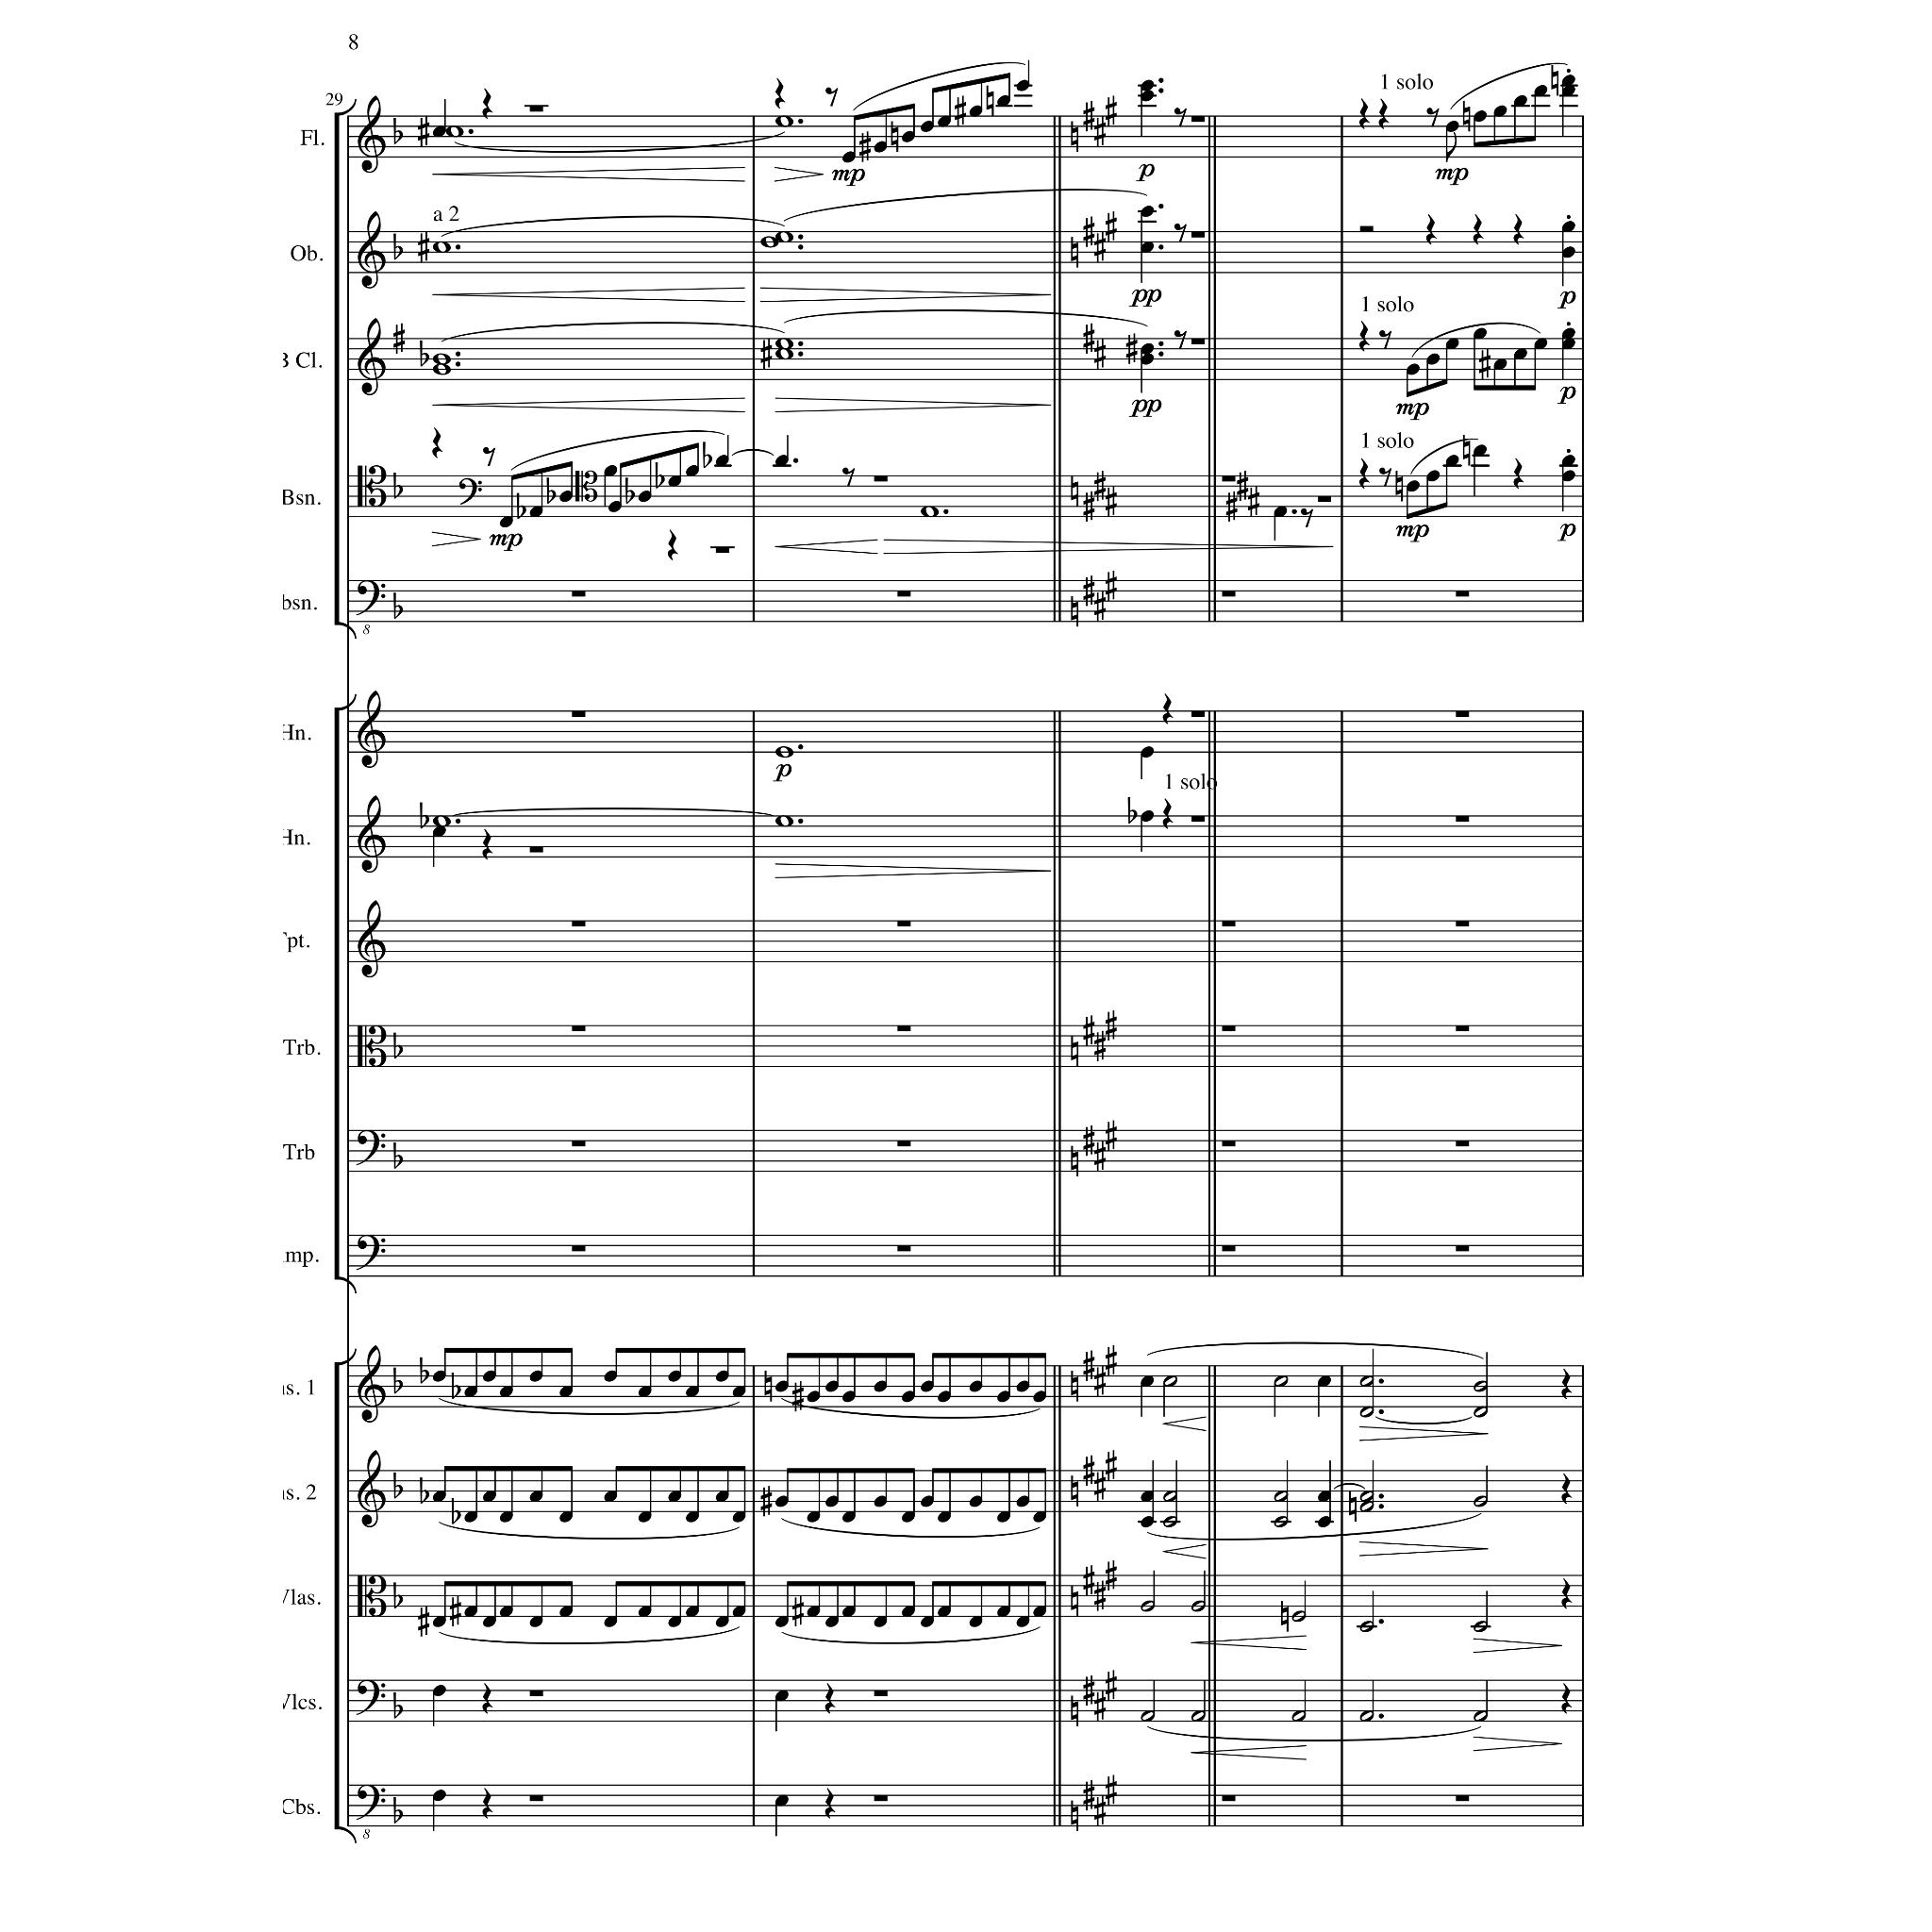fClef: (355, 580, 385, 616), (355, 1235, 385, 1271), (355, 1130, 385, 1166), (355, 1680, 385, 1716), (355, 1785, 385, 1821)
flag8thDown: (1445, 132, 1457, 162)
gClef: (358, 691, 386, 770), (358, 317, 386, 396), (358, 1449, 386, 1528), (358, 900, 386, 979), (358, 796, 386, 874), (358, 211, 386, 289), (358, 96, 386, 174), (358, 1345, 386, 1423)
noteheadBlack: (1140, 353, 1155, 366), (1140, 79, 1155, 92), (1140, 809, 1155, 823), (1140, 745, 1155, 758), (996, 1391, 1011, 1404), (996, 94, 1011, 108), (1015, 1615, 1030, 1628), (1015, 79, 1030, 92), (1560, 338, 1575, 351), (1560, 221, 1575, 234), (1560, 470, 1575, 483), (1492, 358, 1507, 372), (528, 1615, 543, 1628), (528, 1370, 543, 1383), (528, 506, 543, 519), (498, 1385, 513, 1398), (498, 515, 513, 528), (558, 1385, 574, 1398), (806, 1391, 821, 1404), (936, 1391, 951, 1404), (936, 115, 951, 128), (968, 1615, 983, 1628), (919, 1615, 934, 1628), (774, 1794, 789, 1807), (774, 1615, 789, 1628), (1274, 506, 1287, 519), (1032, 1391, 1045, 1404), (1534, 338, 1547, 351), (1513, 94, 1526, 108), (1445, 338, 1458, 351), (1426, 470, 1440, 483), (1426, 353, 1440, 366), (483, 1615, 496, 1628), (483, 1370, 496, 1383), (638, 1385, 651, 1398), (668, 1615, 681, 1628), (668, 1370, 681, 1383), (604, 1615, 617, 1628), (604, 1370, 617, 1383), (604, 464, 617, 477), (608, 500, 621, 513), (464, 1385, 477, 1398), (432, 1789, 445, 1802), (432, 1615, 445, 1628), (432, 1370, 445, 1383), (841, 1391, 855, 1404), (841, 151, 855, 164), (874, 1615, 887, 1628), (824, 1615, 838, 1628), (902, 1391, 915, 1404), (902, 130, 915, 143), (732, 1385, 745, 1398), (685, 1385, 698, 1398), (685, 464, 698, 477), (715, 1615, 728, 1628), (715, 1370, 728, 1383), (1140, 206, 1155, 217), (1140, 241, 1155, 253), (1140, 91, 1155, 102), (1140, 343, 1155, 355), (1140, 1491, 1155, 1502), (1140, 1517, 1155, 1528), (1140, 1375, 1155, 1387), (996, 1606, 1011, 1617), (996, 1511, 1011, 1523), (1015, 1496, 1030, 1507), (1015, 1381, 1030, 1392), (1560, 328, 1575, 340), (1560, 247, 1575, 258), (1560, 75, 1575, 87), (1560, 85, 1575, 96), (1560, 455, 1575, 466), (1492, 106, 1507, 117), (528, 1491, 543, 1502), (498, 1606, 513, 1617), (498, 1511, 513, 1523), (558, 1606, 574, 1617), (558, 1511, 574, 1523), (558, 491, 574, 502), (806, 1606, 821, 1617), (806, 1511, 821, 1523), (936, 1606, 951, 1617), (936, 1511, 951, 1523), (968, 1381, 983, 1392), (968, 1496, 983, 1507), (968, 106, 983, 117), (919, 1496, 934, 1507), (919, 1381, 934, 1392), (919, 121, 934, 132), (774, 1690, 789, 1702), (774, 1496, 789, 1507), (774, 1381, 789, 1392), (774, 455, 789, 466), (1317, 1491, 1330, 1502), (1317, 1517, 1330, 1528), (1317, 1375, 1330, 1387), (1032, 1606, 1045, 1617), (1032, 1511, 1045, 1523), (1534, 85, 1547, 96), (1406, 364, 1419, 375), (1406, 481, 1419, 492), (1513, 349, 1526, 360), (1445, 455, 1458, 466), (1445, 121, 1458, 132), (1474, 328, 1487, 340), (1474, 445, 1487, 457), (1474, 111, 1487, 123), (483, 1491, 496, 1502), (638, 1606, 651, 1617), (638, 1511, 651, 1523), (638, 491, 651, 502), (668, 1491, 681, 1502), (668, 475, 681, 487), (604, 1491, 617, 1502), (464, 1606, 477, 1617), (464, 1511, 477, 1523), (432, 1685, 445, 1696), (432, 1491, 445, 1502), (432, 826, 445, 838), (432, 126, 445, 138), (841, 1606, 855, 1617), (841, 1511, 855, 1523), (874, 1381, 887, 1392), (874, 1496, 887, 1507), (874, 142, 887, 153), (824, 1496, 838, 1507), (824, 1381, 838, 1392), (902, 1606, 915, 1617), (902, 1511, 915, 1523), (732, 1606, 745, 1617), (732, 1511, 745, 1523), (685, 1606, 698, 1617), (685, 1511, 698, 1523), (715, 1491, 728, 1502), (715, 455, 728, 466)
noteheadHalf: (1191, 1709, 1206, 1723), (1273, 1375, 1288, 1389), (1191, 1600, 1206, 1613), (1358, 1709, 1374, 1723), (1358, 1621, 1374, 1634), (1358, 1500, 1374, 1513), (1358, 1375, 1374, 1389), (1358, 1406, 1374, 1419), (1291, 1709, 1306, 1723), (1140, 1709, 1155, 1723), (1140, 1600, 1155, 1613), (1162, 1375, 1177, 1389), (1473, 1709, 1488, 1723), (1473, 1621, 1488, 1634), (1473, 1406, 1488, 1419), (1273, 1491, 1288, 1502), (1273, 1517, 1288, 1528), (1358, 1491, 1374, 1502), (1291, 1611, 1306, 1623), (1162, 1491, 1177, 1502), (1162, 1517, 1177, 1528), (1473, 1496, 1488, 1507), (1473, 1381, 1488, 1392)
noteheadWhole: (432, 815, 451, 828), (432, 353, 451, 366), (920, 506, 939, 519), (759, 236, 778, 249), (774, 115, 793, 128), (774, 338, 793, 351), (774, 815, 793, 828), (774, 745, 793, 758), (444, 126, 463, 138), (432, 364, 451, 375), (432, 241, 451, 253), (774, 349, 793, 360), (774, 232, 793, 243)
rest8th: (1174, 330, 1187, 351), (1300, 508, 1313, 528), (1174, 108, 1187, 128), (1174, 223, 1187, 243), (1378, 330, 1391, 351), (1425, 108, 1439, 128), (824, 87, 838, 108), (1378, 468, 1391, 487), (482, 447, 495, 466), (841, 468, 855, 487)
restHalf: (1358, 226, 1374, 232)
restQuarter: (1358, 458, 1370, 490), (1358, 321, 1370, 353), (1358, 98, 1370, 130), (1162, 798, 1174, 830), (1162, 693, 1174, 725), (1560, 1683, 1572, 1715), (1560, 1577, 1572, 1609), (1560, 1473, 1572, 1505), (1560, 1368, 1572, 1400), (1377, 98, 1389, 130), (1512, 458, 1524, 490), (481, 1788, 492, 1820), (481, 1683, 492, 1715), (481, 828, 492, 860), (481, 88, 492, 120), (667, 529, 678, 561), (824, 1788, 836, 1820), (824, 1683, 836, 1715), (774, 77, 785, 109), (1512, 215, 1524, 245), (1424, 215, 1436, 245), (1472, 215, 1483, 245), (431, 428, 442, 458)
restWhole: (523, 105, 549, 112), (709, 546, 734, 554), (896, 1245, 911, 1253), (1221, 475, 1236, 483), (1221, 591, 1236, 598), (896, 591, 911, 598), (1221, 1245, 1236, 1253), (1455, 1245, 1470, 1253), (1455, 815, 1470, 823), (1455, 591, 1470, 598), (1191, 338, 1204, 345), (1191, 815, 1204, 823), (1317, 496, 1330, 504), (572, 591, 585, 598), (572, 1245, 585, 1253), (874, 475, 887, 483), (896, 921, 911, 926), (896, 1026, 911, 1032), (896, 1141, 911, 1147), (1221, 921, 1236, 926), (1221, 1026, 1236, 1032), (1221, 1141, 1236, 1147), (1221, 1796, 1236, 1802), (528, 847, 543, 853), (528, 1690, 543, 1696), (528, 1796, 543, 1802), (1455, 1796, 1470, 1802), (1455, 1141, 1470, 1147), (1455, 1026, 1470, 1032), (1455, 921, 1470, 926), (1455, 711, 1470, 717), (1191, 117, 1204, 123), (1191, 232, 1204, 238), (1191, 711, 1204, 717), (572, 1141, 585, 1147), (572, 1026, 585, 1032), (572, 921, 585, 926), (572, 711, 585, 717), (874, 1796, 887, 1802), (874, 1690, 887, 1696)
